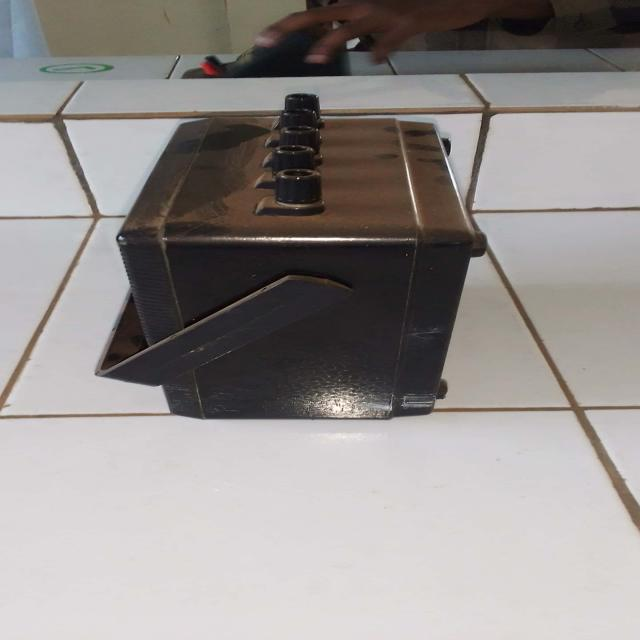Ammeter Analog: (111, 80, 518, 432)
